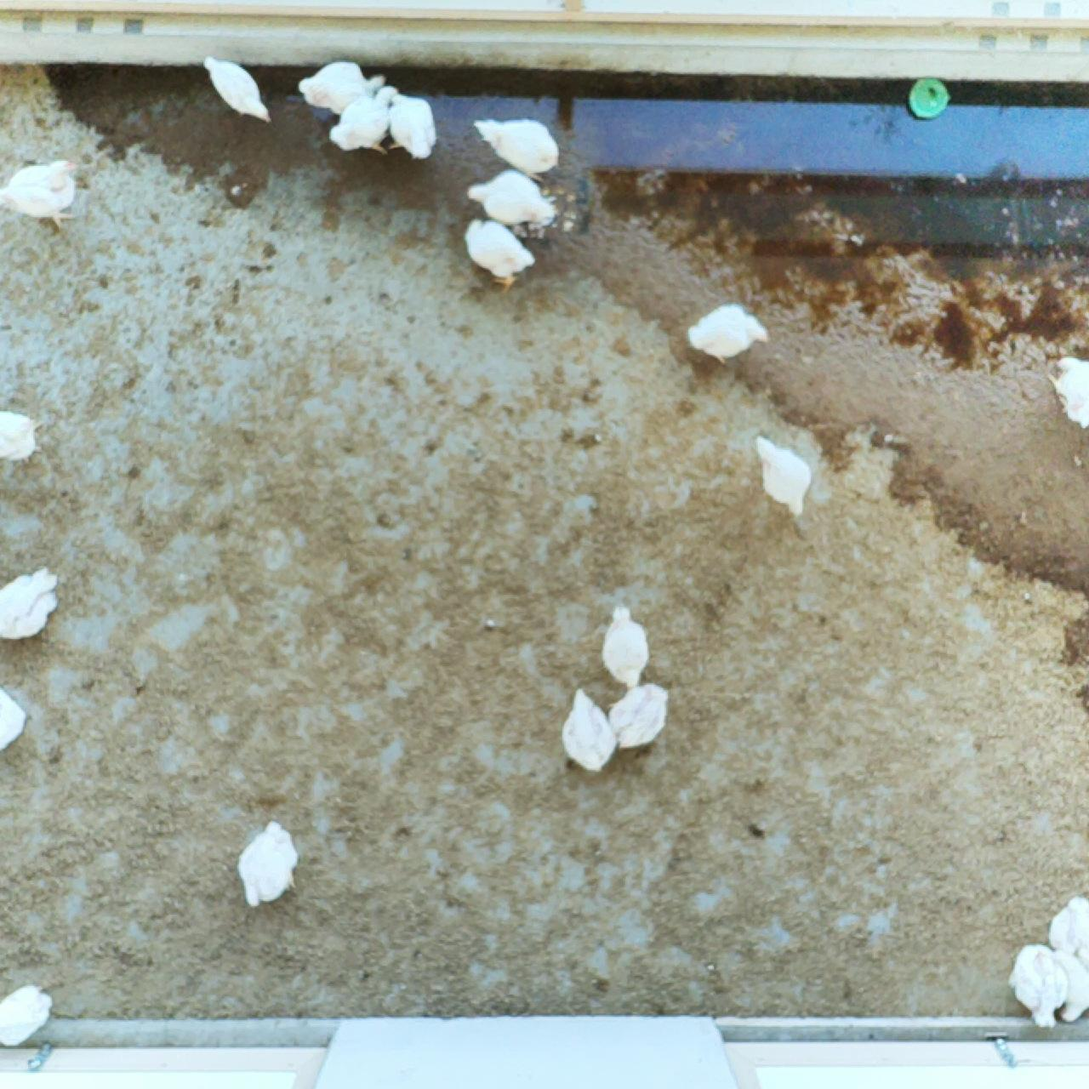chicken: (467, 116, 566, 184), (687, 299, 771, 368), (465, 165, 562, 224), (4, 157, 77, 234), (462, 216, 536, 286), (236, 819, 295, 905), (297, 59, 387, 114), (749, 437, 811, 516), (198, 55, 271, 119), (1, 564, 58, 645), (600, 679, 666, 747), (1009, 944, 1063, 1027), (379, 88, 439, 162), (559, 691, 613, 773), (328, 97, 396, 151), (602, 608, 647, 687), (1046, 896, 1089, 968), (3, 982, 49, 1045), (1052, 948, 1089, 1023), (1055, 352, 1089, 425), (2, 408, 34, 464), (1, 687, 26, 755)
